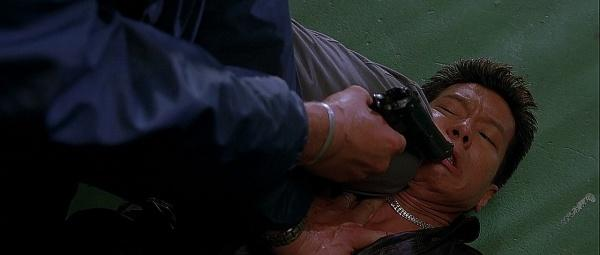Gun: (371, 83, 453, 167)
